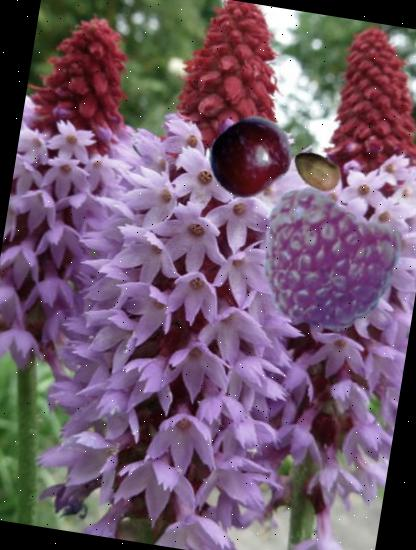Papaya: (286, 140, 348, 201)
Plum: (202, 108, 300, 207)
Raspberry: (245, 182, 406, 343)
